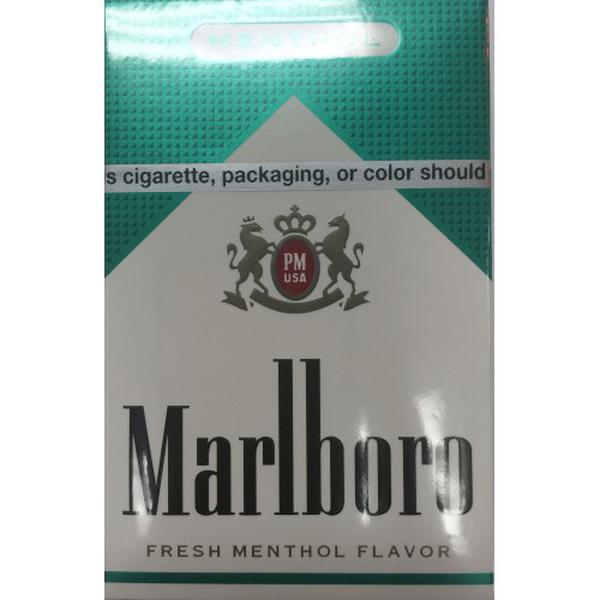marlboro_mentol: (107, 4, 493, 600)
